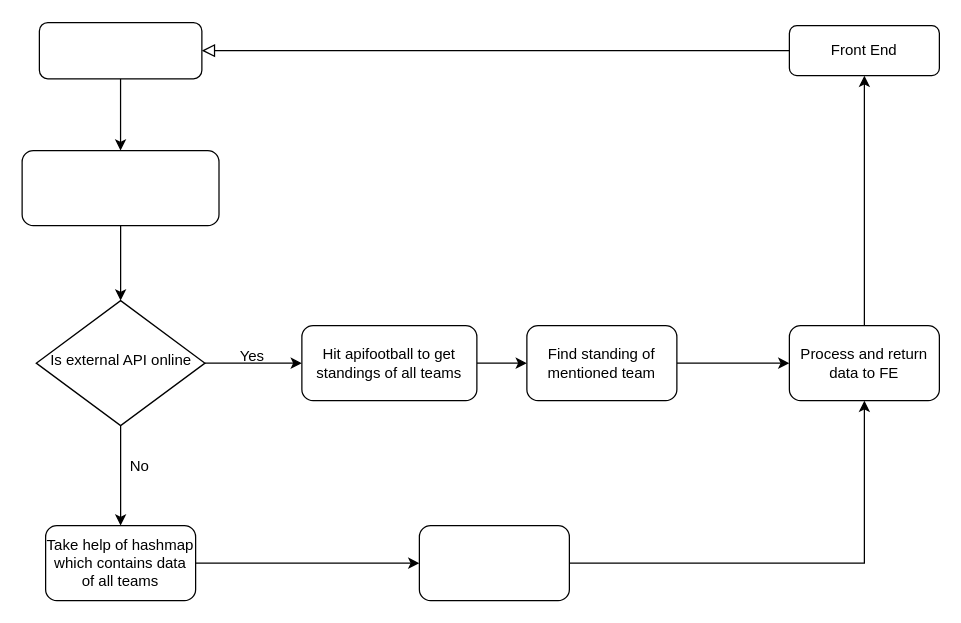
This 961x623 diagram has some shape labels left out. The shapes that lost their labels are listed below. From the top down, each one's centre as x and y in pixels, then its label:
At (120,50): "GET request from FE".
At (120,187): "Prepare the request to find standing of a given team".
At (493,562): "Find standing of team using hashmap data".
